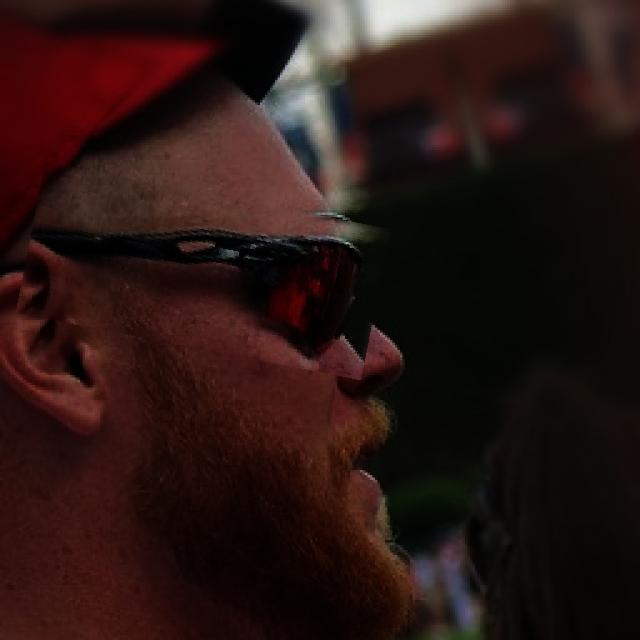glasses: (21, 178, 385, 364)
